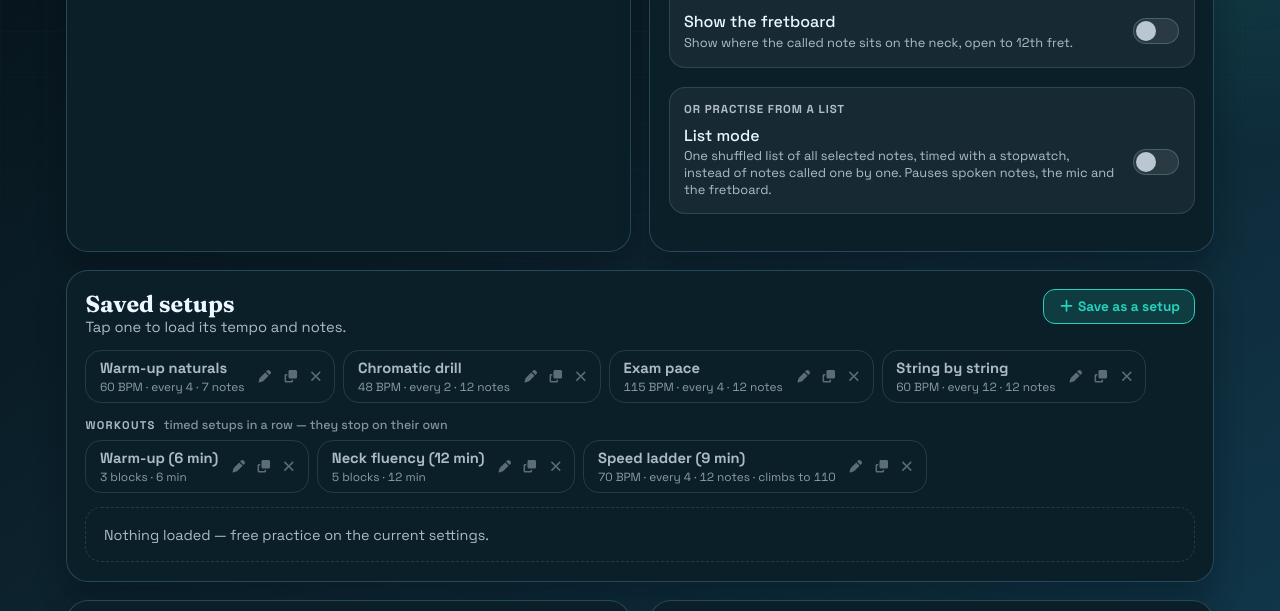
Scenario: App integration › says nothing about closing the tab when storage works
(page scrolled)
Click the button with test id "routine-save" at (1119, 307), box [1043,289,1195,324]
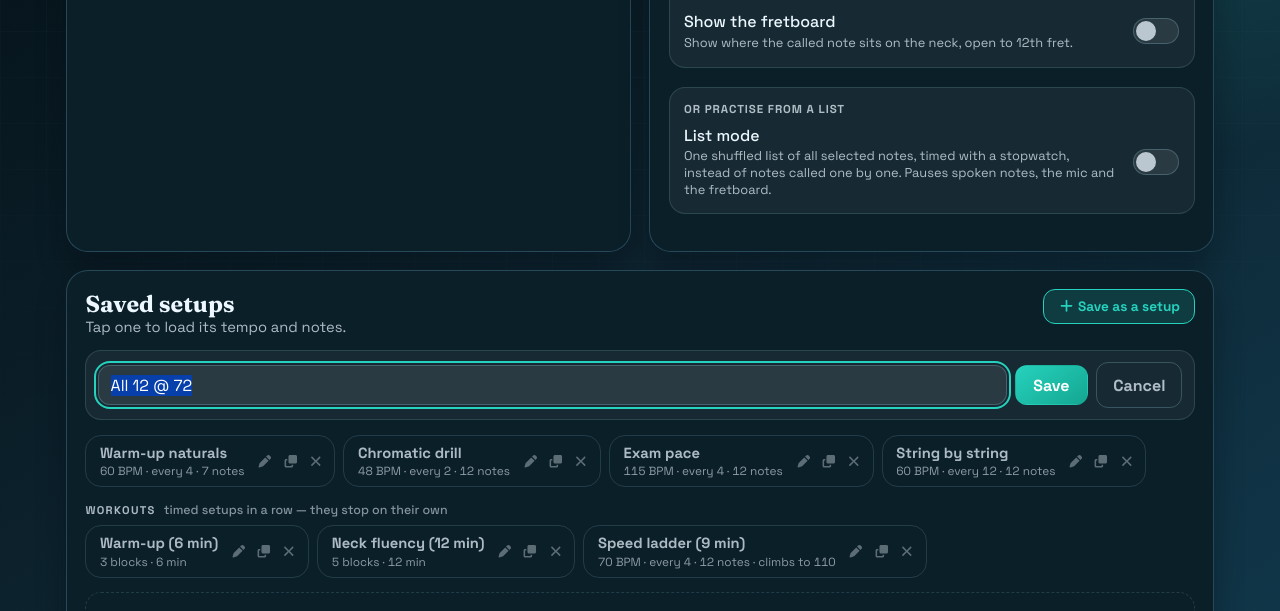
Replace the text in the field with test id "routine-name-input" with "Persistent test" at (552, 385), box [98,365,1007,406]
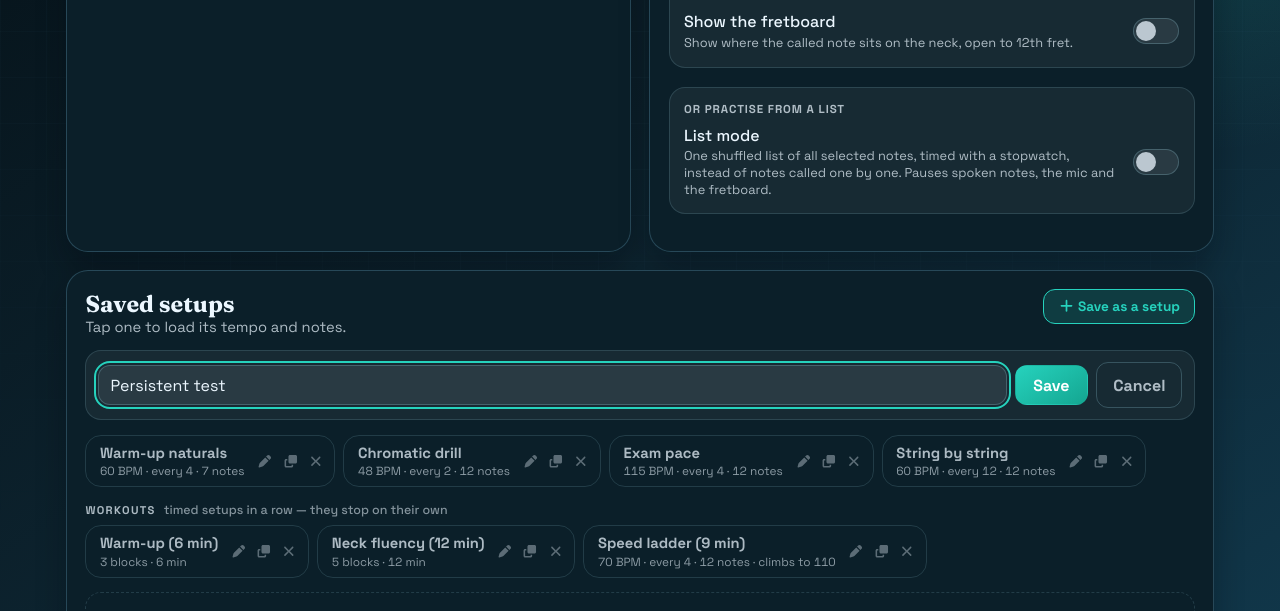
Click the button with test id "routine-save-confirm" at (1051, 385), box [1015,365,1088,406]
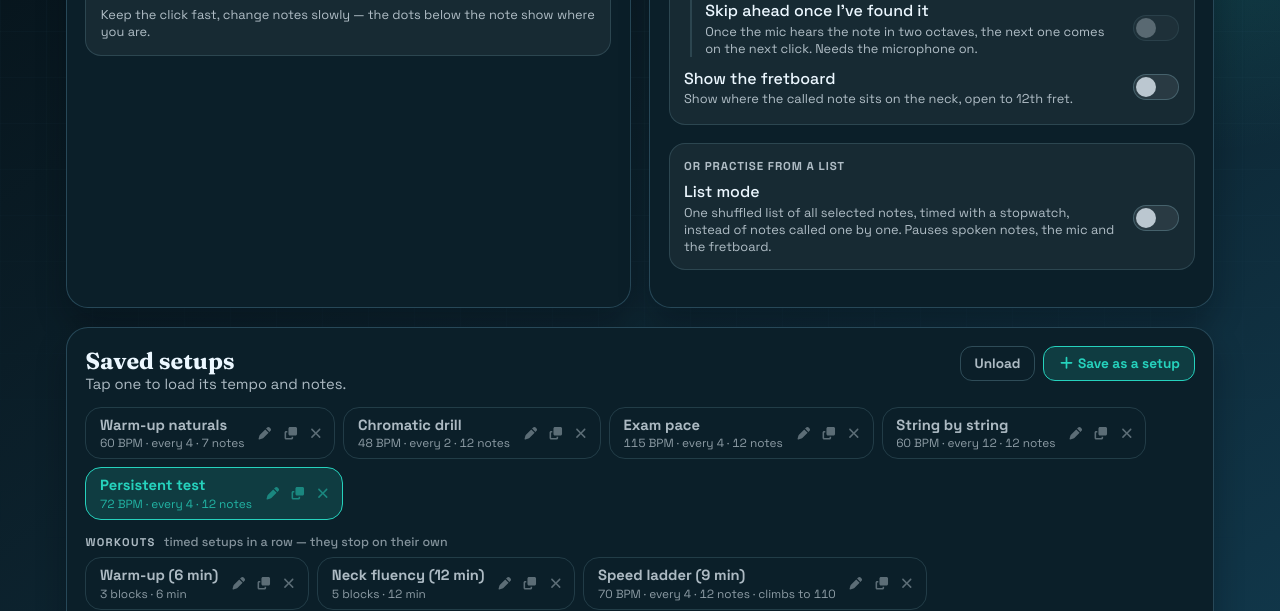
Now the element with test id "routine-shelf" shows "Persistent test", box [86,468,258,519]
